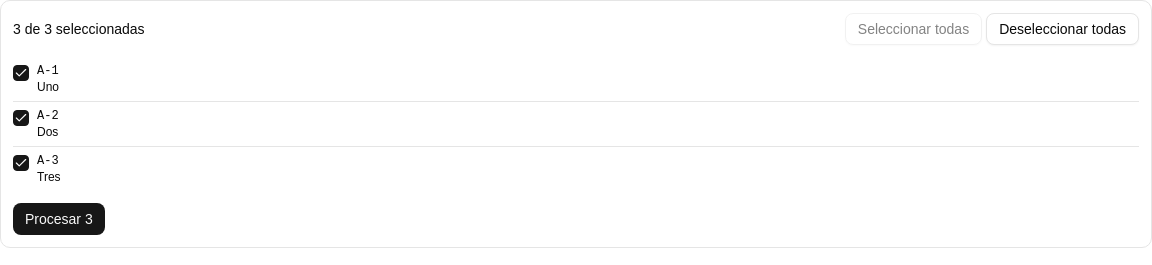
Test: PendientesPreview › 'Seleccionar todas' vuelve a incluir lo destildado
Click the checkbox named "Incluir A-1": [21, 73] box left=13, top=65, right=29, bottom=81
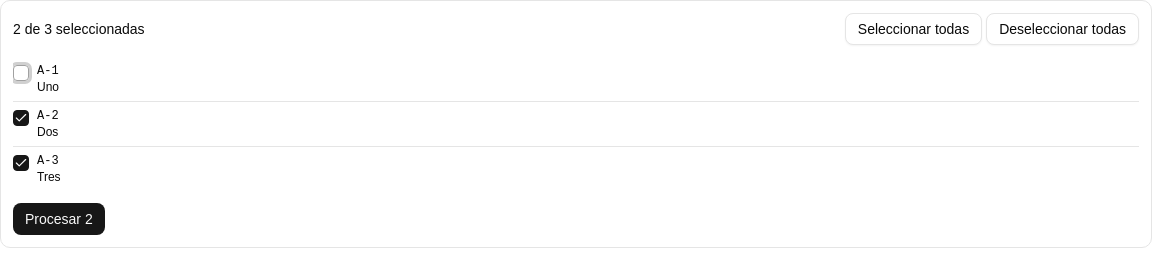
Result: the text "2 de 3 seleccionadas" is shown at left=13, top=19, right=145, bottom=39
Click the button "Seleccionar todas": [913, 29] box left=845, top=13, right=982, bottom=45
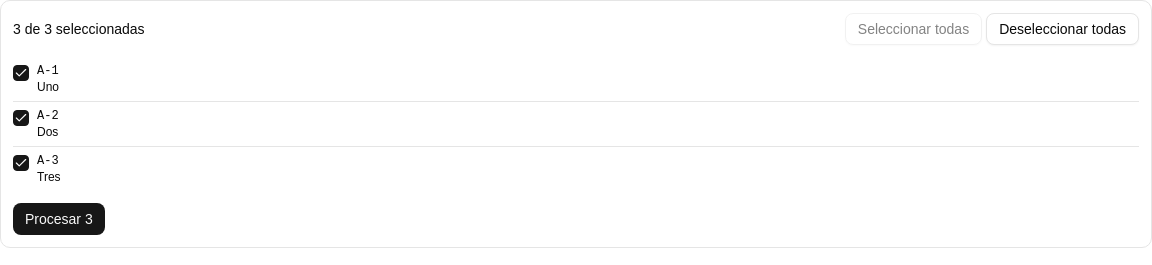
Result: the text "3 de 3 seleccionadas" is shown at left=13, top=19, right=145, bottom=39
